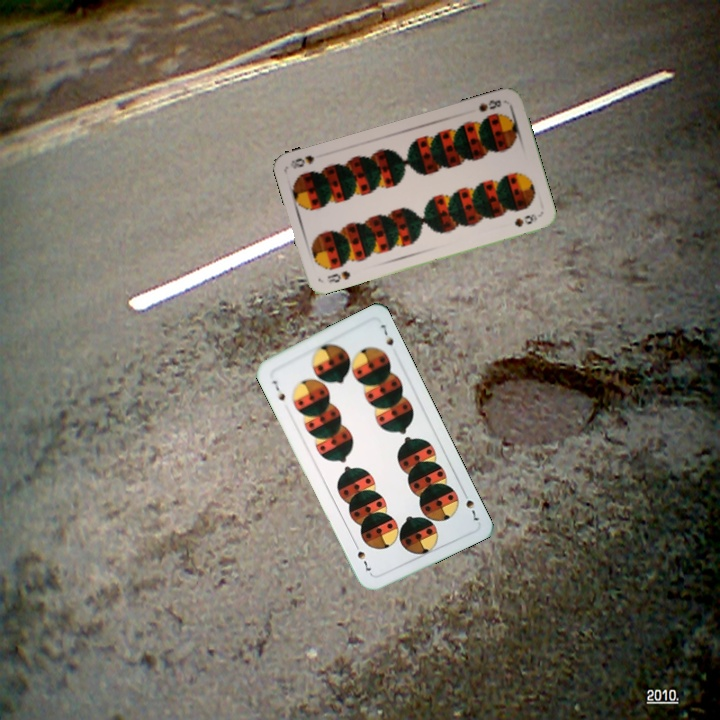S7: (458, 486, 481, 523), (268, 376, 288, 403)
S8: (323, 267, 353, 285), (475, 96, 504, 114)
